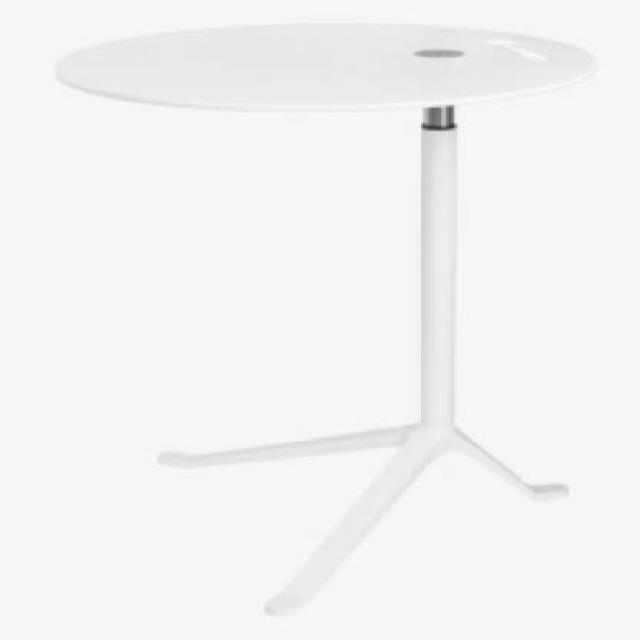table: (46, 16, 594, 618)
